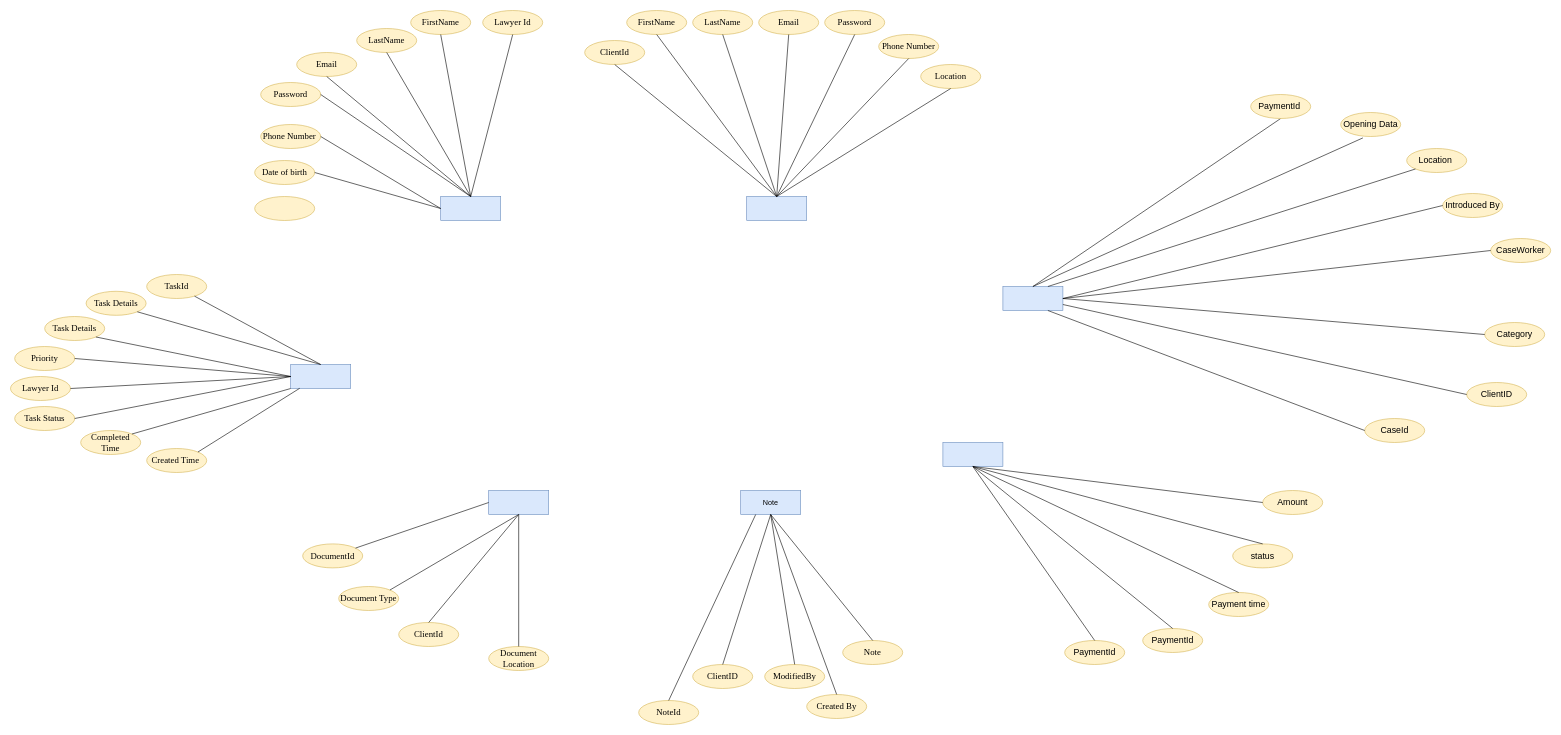
The diagram is 1561 pixels wide and 735 high, and some of its shapes have lost their labels. The shapes that lost their labels are listed below. From the top down, each one's centre as x and y in pixels, then its label:
the point at 284,208: Sex
the point at 470,208: Lawyers
the point at 776,208: Clients
the point at 1032,298: Case
the point at 320,376: Tasks
the point at 972,454: Payments
the point at 518,502: Documents
